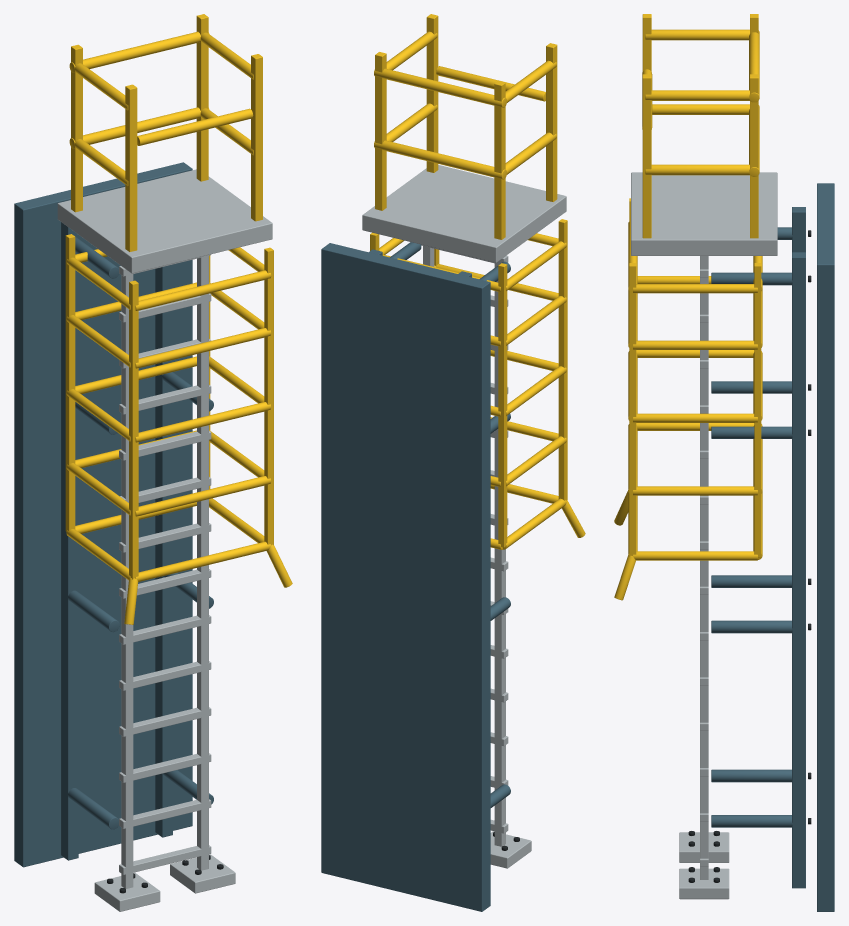
The model's file is fixed_caged_ladder.glb.
3 views of the same model, side by side, from view 1: azimuth 30°, elevation 25°; view 2: azimuth 150°, elevation 25°; view 3: azimuth 270°, elevation 25° (orthographic). The views are drawn at different scales.
Visible parts, largest first — view 1: LADDER_mounting_backplane, LADDER_top_landing, LADDER_rear_mount_rail_-0.3, LADDER_rear_mount_rail_0.3, LADDER_rail_0.24, LADDER_rail_-0.24, CAGE_longitudinal_-0.43_0.3, CAGE_longitudinal_-0.43_-0.4, CAGE_longitudinal_0.43_-0.4, LADDER_top_guard_post_-0.4_-0.32, LADDER_top_guard_post_0.4_-0.32, LADDER_top_guard_post_0.4_0.28 (+42 smaller); view 2: LADDER_mounting_backplane, LADDER_top_landing, LADDER_rail_-0.24, CAGE_longitudinal_-0.43_0.3, CAGE_longitudinal_-0.43_-0.4, LADDER_top_guard_post_-0.4_0.28, LADDER_top_guard_post_0.4_0.28, LADDER_top_guard_post_-0.4_-0.32, LADDER_top_guard_post_0.4_-0.32, LADDER_top_guard_rear_4.98, LADDER_top_guard_rear_4.52, LADDER_base_plate_-0.24 (+11 smaller); view 3: LADDER_mounting_backplane, LADDER_top_landing, LADDER_rear_mount_rail_0.3, LADDER_rail_0.24, CAGE_longitudinal_0.43_0.3, CAGE_longitudinal_0.43_-0.4, LADDER_top_guard_post_0.4_-0.32, LADDER_base_plate_0.24, LADDER_top_guard_post_0.4_0.28, LADDER_base_plate_-0.24, CAGE_band_right_0, CAGE_band_right_1 (+20 smaller).
Boxes of the visible parts, left/top/right/bottom form: LADDER_mounting_backplane: left=14, top=162, right=192, bottom=867; LADDER_top_landing: left=57, top=169, right=272, bottom=273; LADDER_rear_mount_rail_-0.3: left=61, top=222, right=78, bottom=860; LADDER_rear_mount_rail_0.3: left=155, top=264, right=172, bottom=837; LADDER_rail_0.24: left=197, top=255, right=208, bottom=870; LADDER_rail_-0.24: left=121, top=270, right=133, bottom=888; CAGE_longitudinal_-0.43_0.3: left=65, top=234, right=75, bottom=531; CAGE_longitudinal_-0.43_-0.4: left=129, top=280, right=138, bottom=579; CAGE_longitudinal_0.43_-0.4: left=264, top=247, right=273, bottom=545; LADDER_top_guard_post_-0.4_-0.32: left=125, top=84, right=137, bottom=251; LADDER_top_guard_post_0.4_-0.32: left=251, top=54, right=262, bottom=221; LADDER_top_guard_post_0.4_0.28: left=196, top=14, right=208, bottom=181; LADDER_mounting_backplane: left=321, top=243, right=490, bottom=911; LADDER_top_landing: left=362, top=165, right=566, bottom=262; LADDER_rail_-0.24: left=494, top=259, right=505, bottom=846; CAGE_longitudinal_-0.43_0.3: left=498, top=263, right=507, bottom=547; CAGE_longitudinal_-0.43_-0.4: left=558, top=219, right=567, bottom=500; LADDER_top_guard_post_-0.4_0.28: left=494, top=81, right=505, bottom=239; LADDER_top_guard_post_0.4_0.28: left=375, top=52, right=386, bottom=210; LADDER_top_guard_post_-0.4_-0.32: left=546, top=43, right=557, bottom=201; LADDER_top_guard_post_0.4_-0.32: left=426, top=14, right=438, bottom=172; LADDER_top_guard_rear_4.98: left=374, top=68, right=506, bottom=107; LADDER_top_guard_rear_4.52: left=374, top=140, right=506, bottom=179; LADDER_base_plate_-0.24: left=490, top=831, right=531, bottom=868; LADDER_mounting_backplane: left=817, top=183, right=834, bottom=911; LADDER_top_landing: left=631, top=172, right=777, bottom=255; LADDER_rear_mount_rail_0.3: left=792, top=252, right=805, bottom=888; LADDER_rail_0.24: left=700, top=256, right=708, bottom=879; CAGE_longitudinal_0.43_0.3: left=754, top=263, right=761, bottom=557; CAGE_longitudinal_0.43_-0.4: left=629, top=263, right=636, bottom=556; LADDER_top_guard_post_0.4_-0.32: left=642, top=74, right=651, bottom=238; LADDER_base_plate_0.24: left=679, top=868, right=729, bottom=899; LADDER_top_guard_post_0.4_0.28: left=750, top=74, right=758, bottom=238; LADDER_base_plate_-0.24: left=679, top=832, right=729, bottom=862; CAGE_band_right_0: left=633, top=551, right=757, bottom=560; CAGE_band_right_1: left=633, top=486, right=757, bottom=495.
Bounding box in the file's own units: 1.08 × 5.1 × 1.23.
